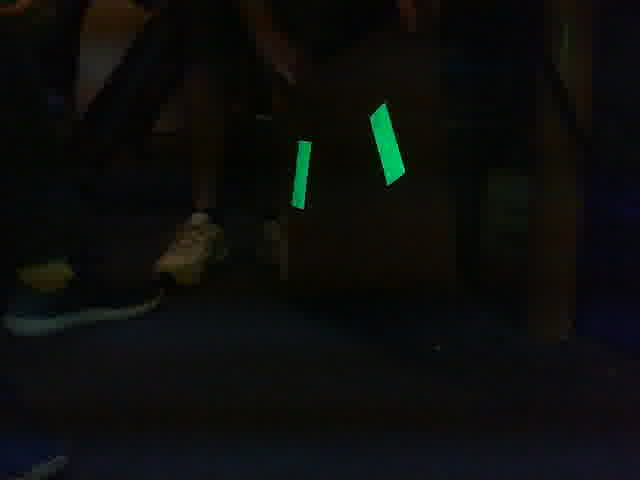target: (288, 102, 407, 212)
